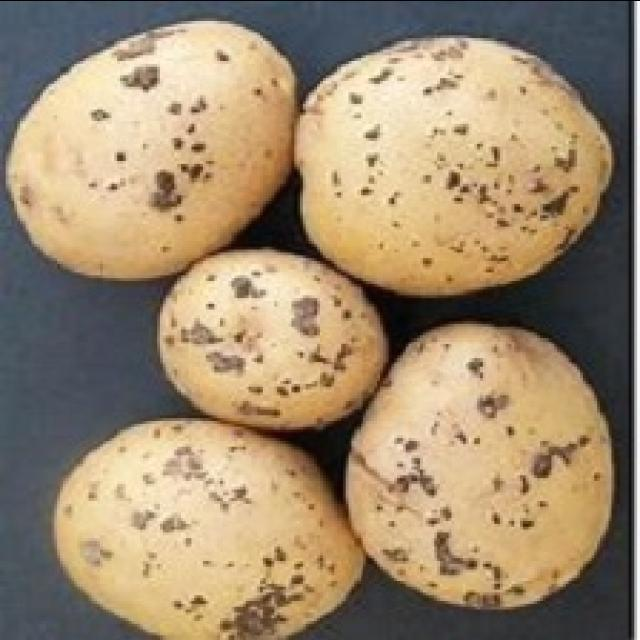black_scurf: (330, 313, 640, 638), (281, 20, 623, 309), (0, 0, 306, 283), (43, 407, 390, 640), (146, 246, 402, 444)
